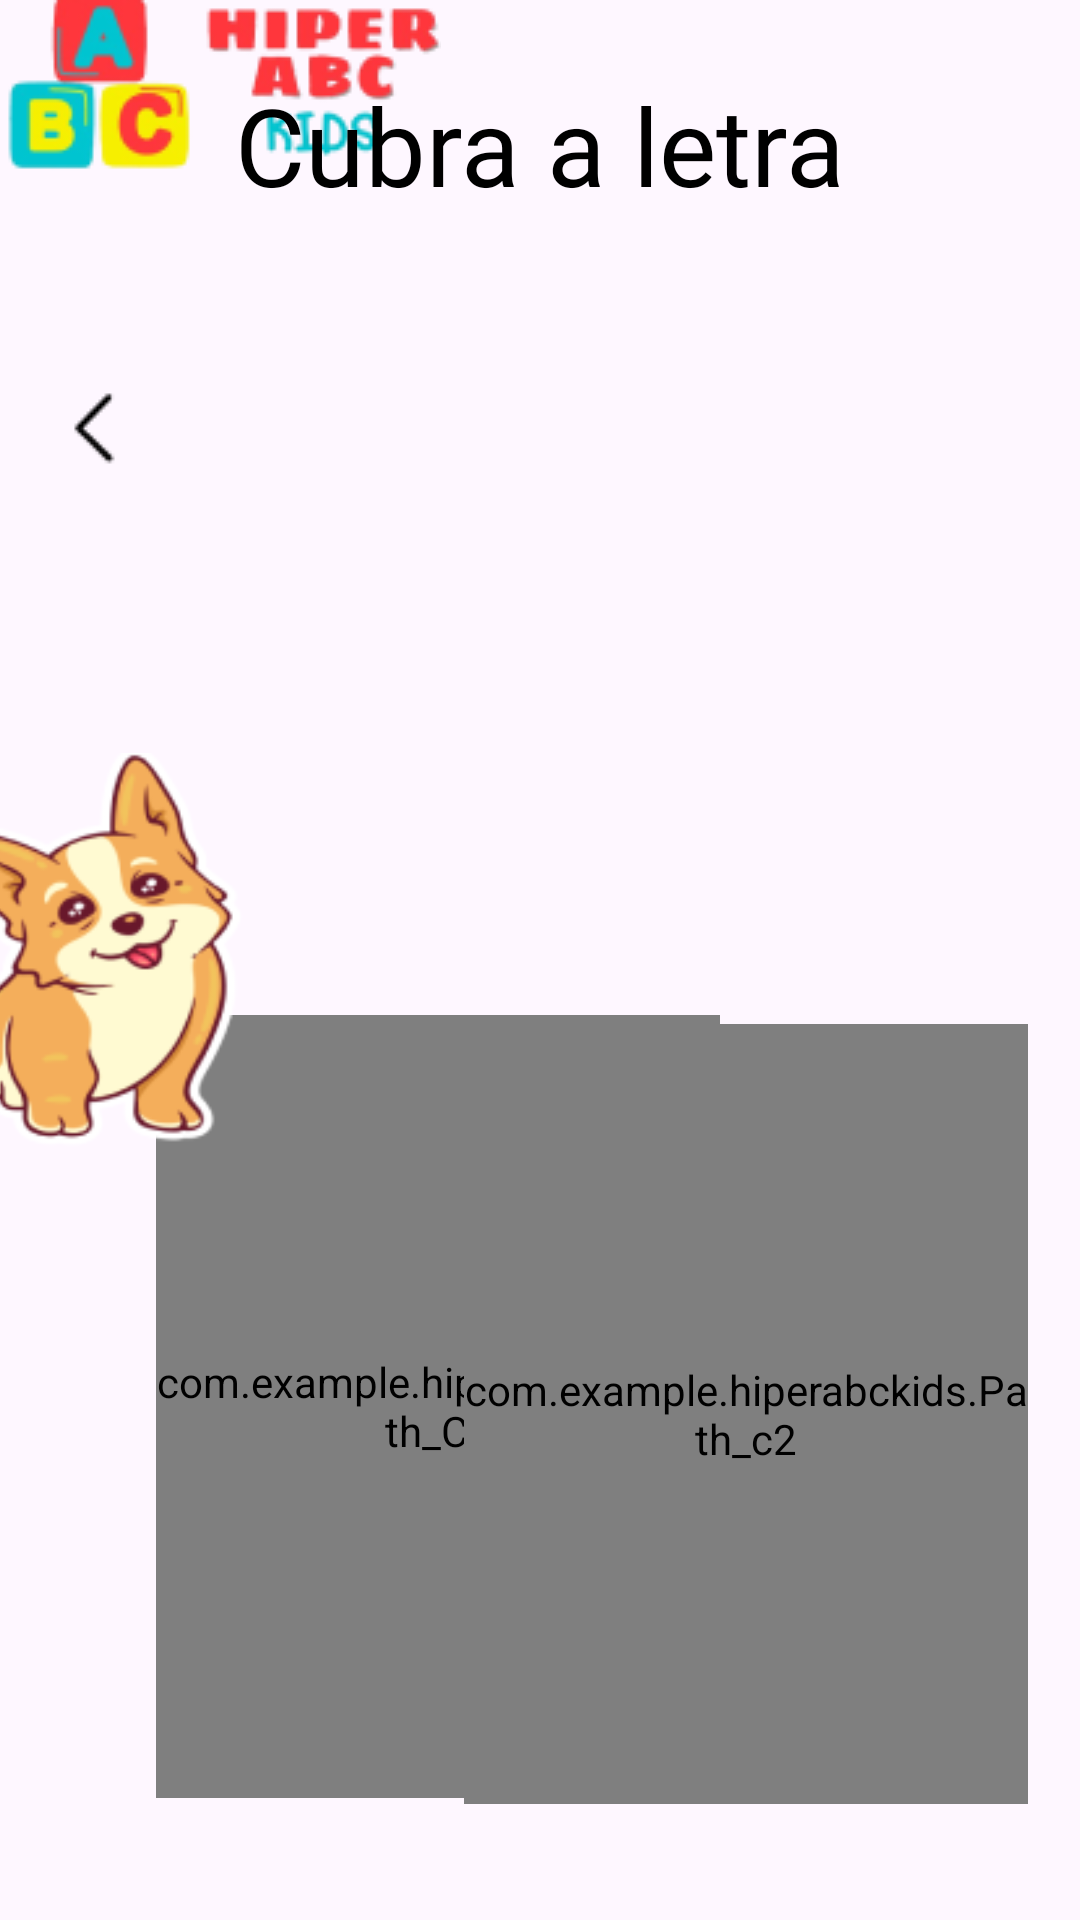

Locate icon controls on the screen. Image size 1080*1920, boxes as (x1, y1, x2, y2).
seta voltar: (74, 393, 115, 464)
